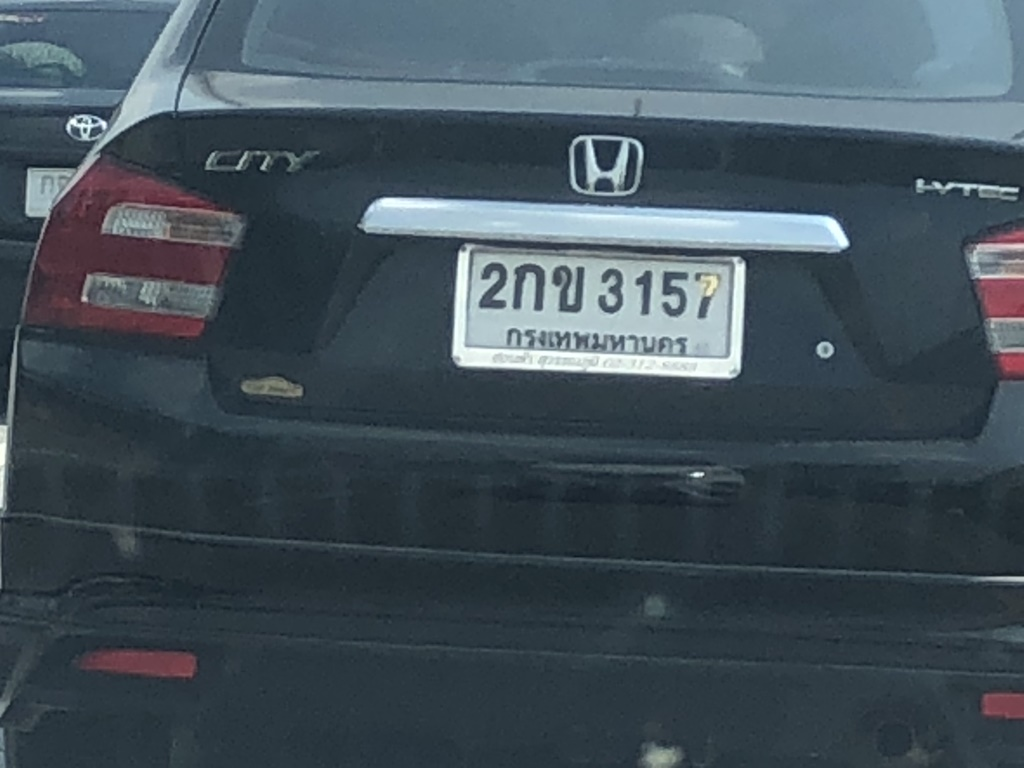five: (656, 260, 693, 327)
one: (622, 263, 663, 320)
seven: (683, 267, 728, 325)
three: (588, 256, 628, 318)
two: (473, 249, 510, 315)
